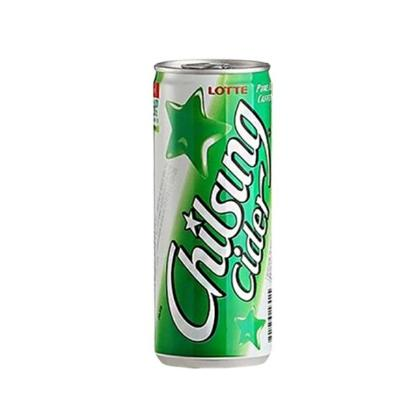Can: (152, 61, 274, 367)
